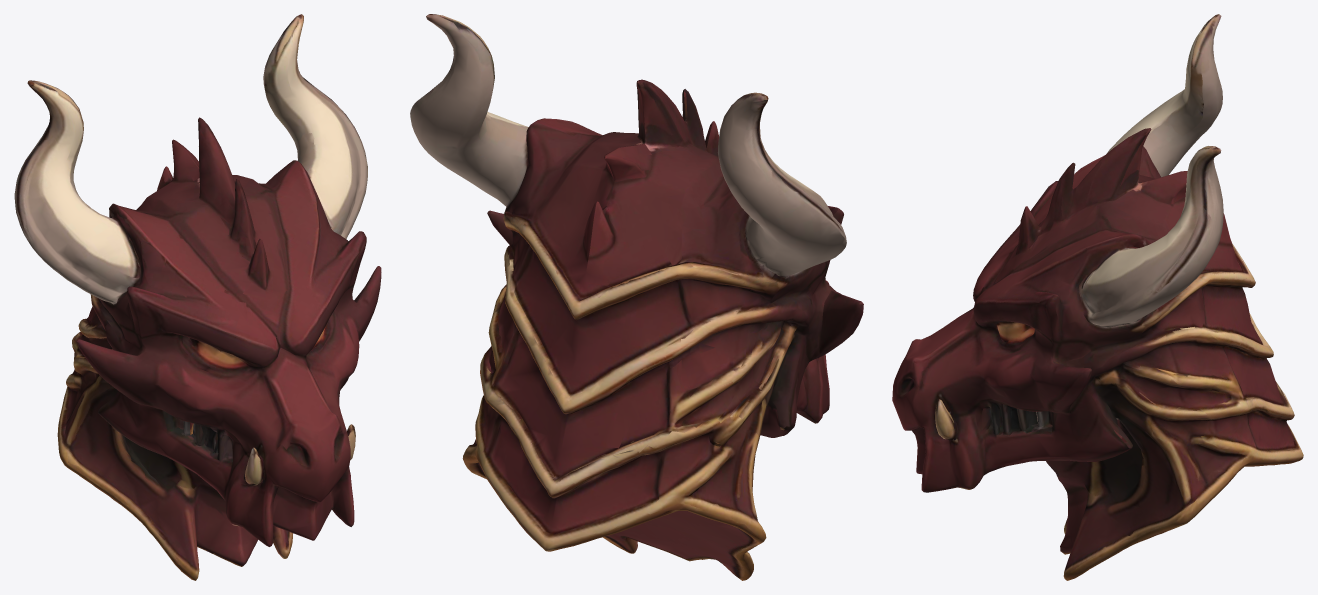
Rendered from h_dragonhead_f.glb.
3 renders of one model, left to right at view 1: azimuth 30°, elevation 25°; view 2: azimuth 150°, elevation 25°; view 3: azimuth 270°, elevation 25°, orthographic. The views are drawn at different scales.
Visible parts, largest first — view 1: DragonHead; view 2: DragonHead; view 3: DragonHead.
Part boxes in pixels (<box>): DragonHead: <box>14,14,381,580</box>; DragonHead: <box>410,14,863,580</box>; DragonHead: <box>892,14,1303,580</box>.
Size of the model in its own units: 0.3659 by 0.48 by 0.3757.
1 material, 1 textured.
